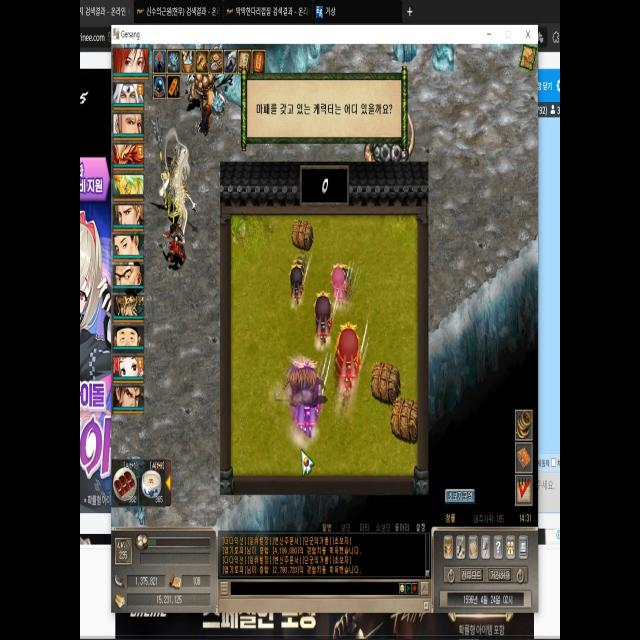character_brown: (287, 352, 333, 448), (334, 318, 371, 416), (312, 289, 340, 351), (288, 249, 314, 312), (332, 260, 362, 312)
